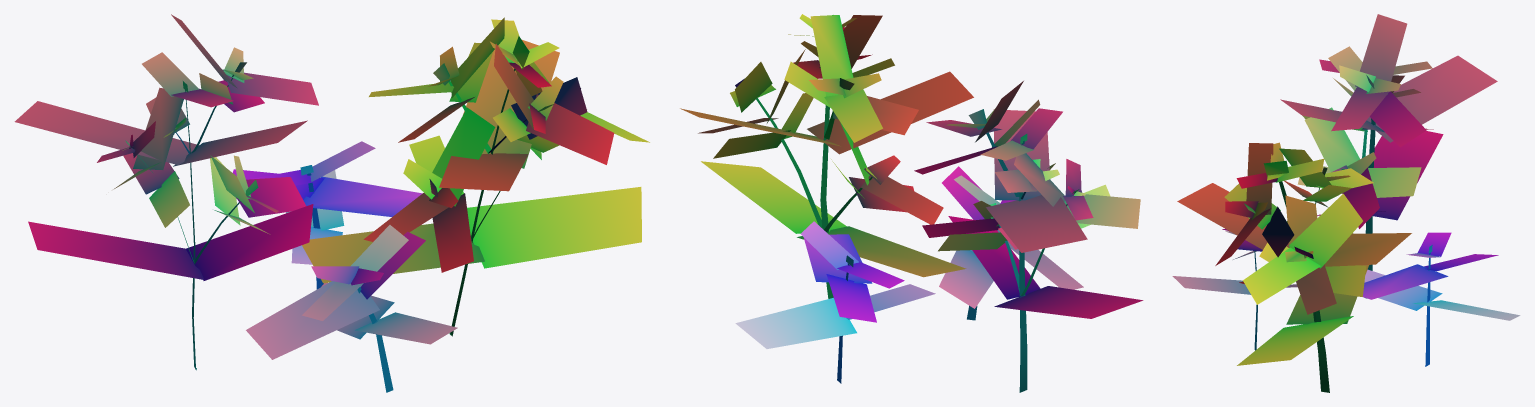
File: Common_Hemp_Nettle_xh1kdfbqx_Low_xh1kdfbqx_VarF_LOD2.fbx
The picture shows the model from 3 angles, left to right: view 1: azimuth 30°, elevation 25°; view 2: azimuth 150°, elevation 25°; view 3: azimuth 270°, elevation 25°; orthographic projection. The views are drawn at different scales.
Parts seen in each view (by area): view 1: _s3qw_VarF_LOD4; view 2: _s3qw_VarF_LOD4; view 3: _s3qw_VarF_LOD4.
Part boxes in pixels (x1,y1,x2,y2): _s3qw_VarF_LOD4: (14,14,649,392); _s3qw_VarF_LOD4: (680,14,1143,392); _s3qw_VarF_LOD4: (1172,14,1520,392).
Size of the model in its own units: 138 by 84.43 by 93.96.
